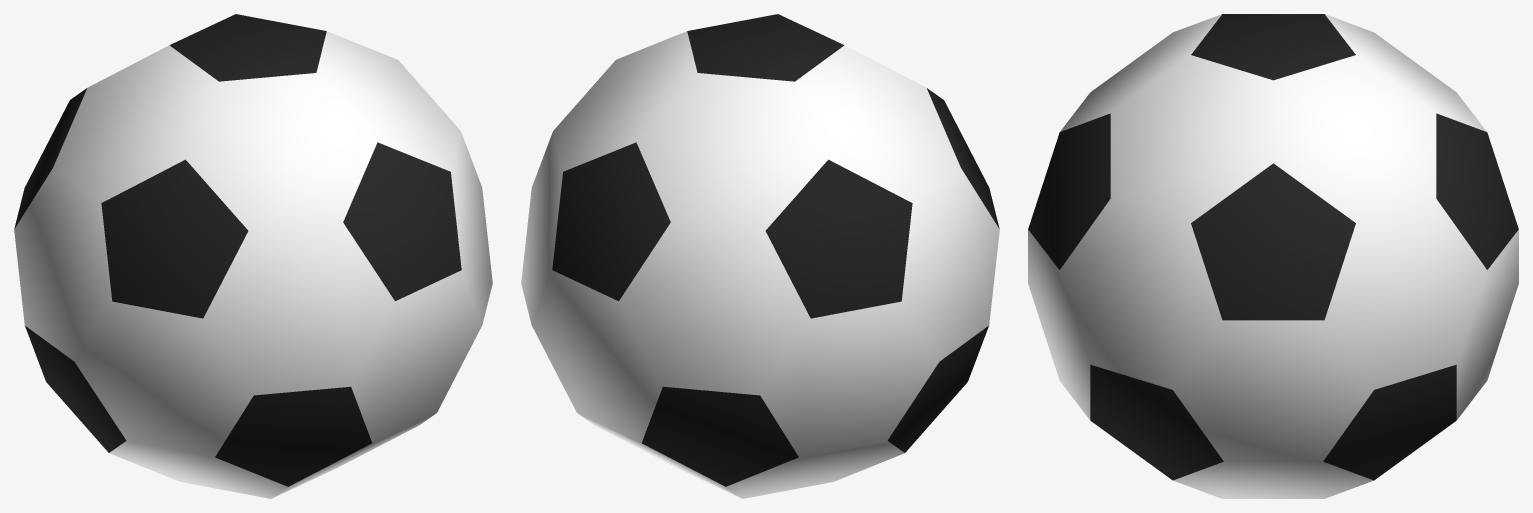
The model's file is ball.glb.
3 views of the same model, side by side, from view 1: azimuth 30°, elevation 25°; view 2: azimuth 150°, elevation 25°; view 3: azimuth 270°, elevation 25° (orthographic). The views are drawn at different scales.
Visible parts, largest first — view 1: soccer ball; view 2: soccer ball; view 3: soccer ball.
Part boxes in pixels (box(x1,y1,x2,y2)): soccer ball: box(14, 14, 492, 498); soccer ball: box(521, 14, 999, 498); soccer ball: box(1028, 14, 1518, 498).
Size of the model in its own units: 1.67 by 1.63 by 1.7.
Materials: 1 (1 with a texture image).
